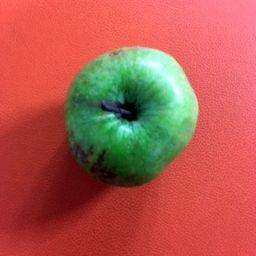apple: (47, 29, 214, 187)
